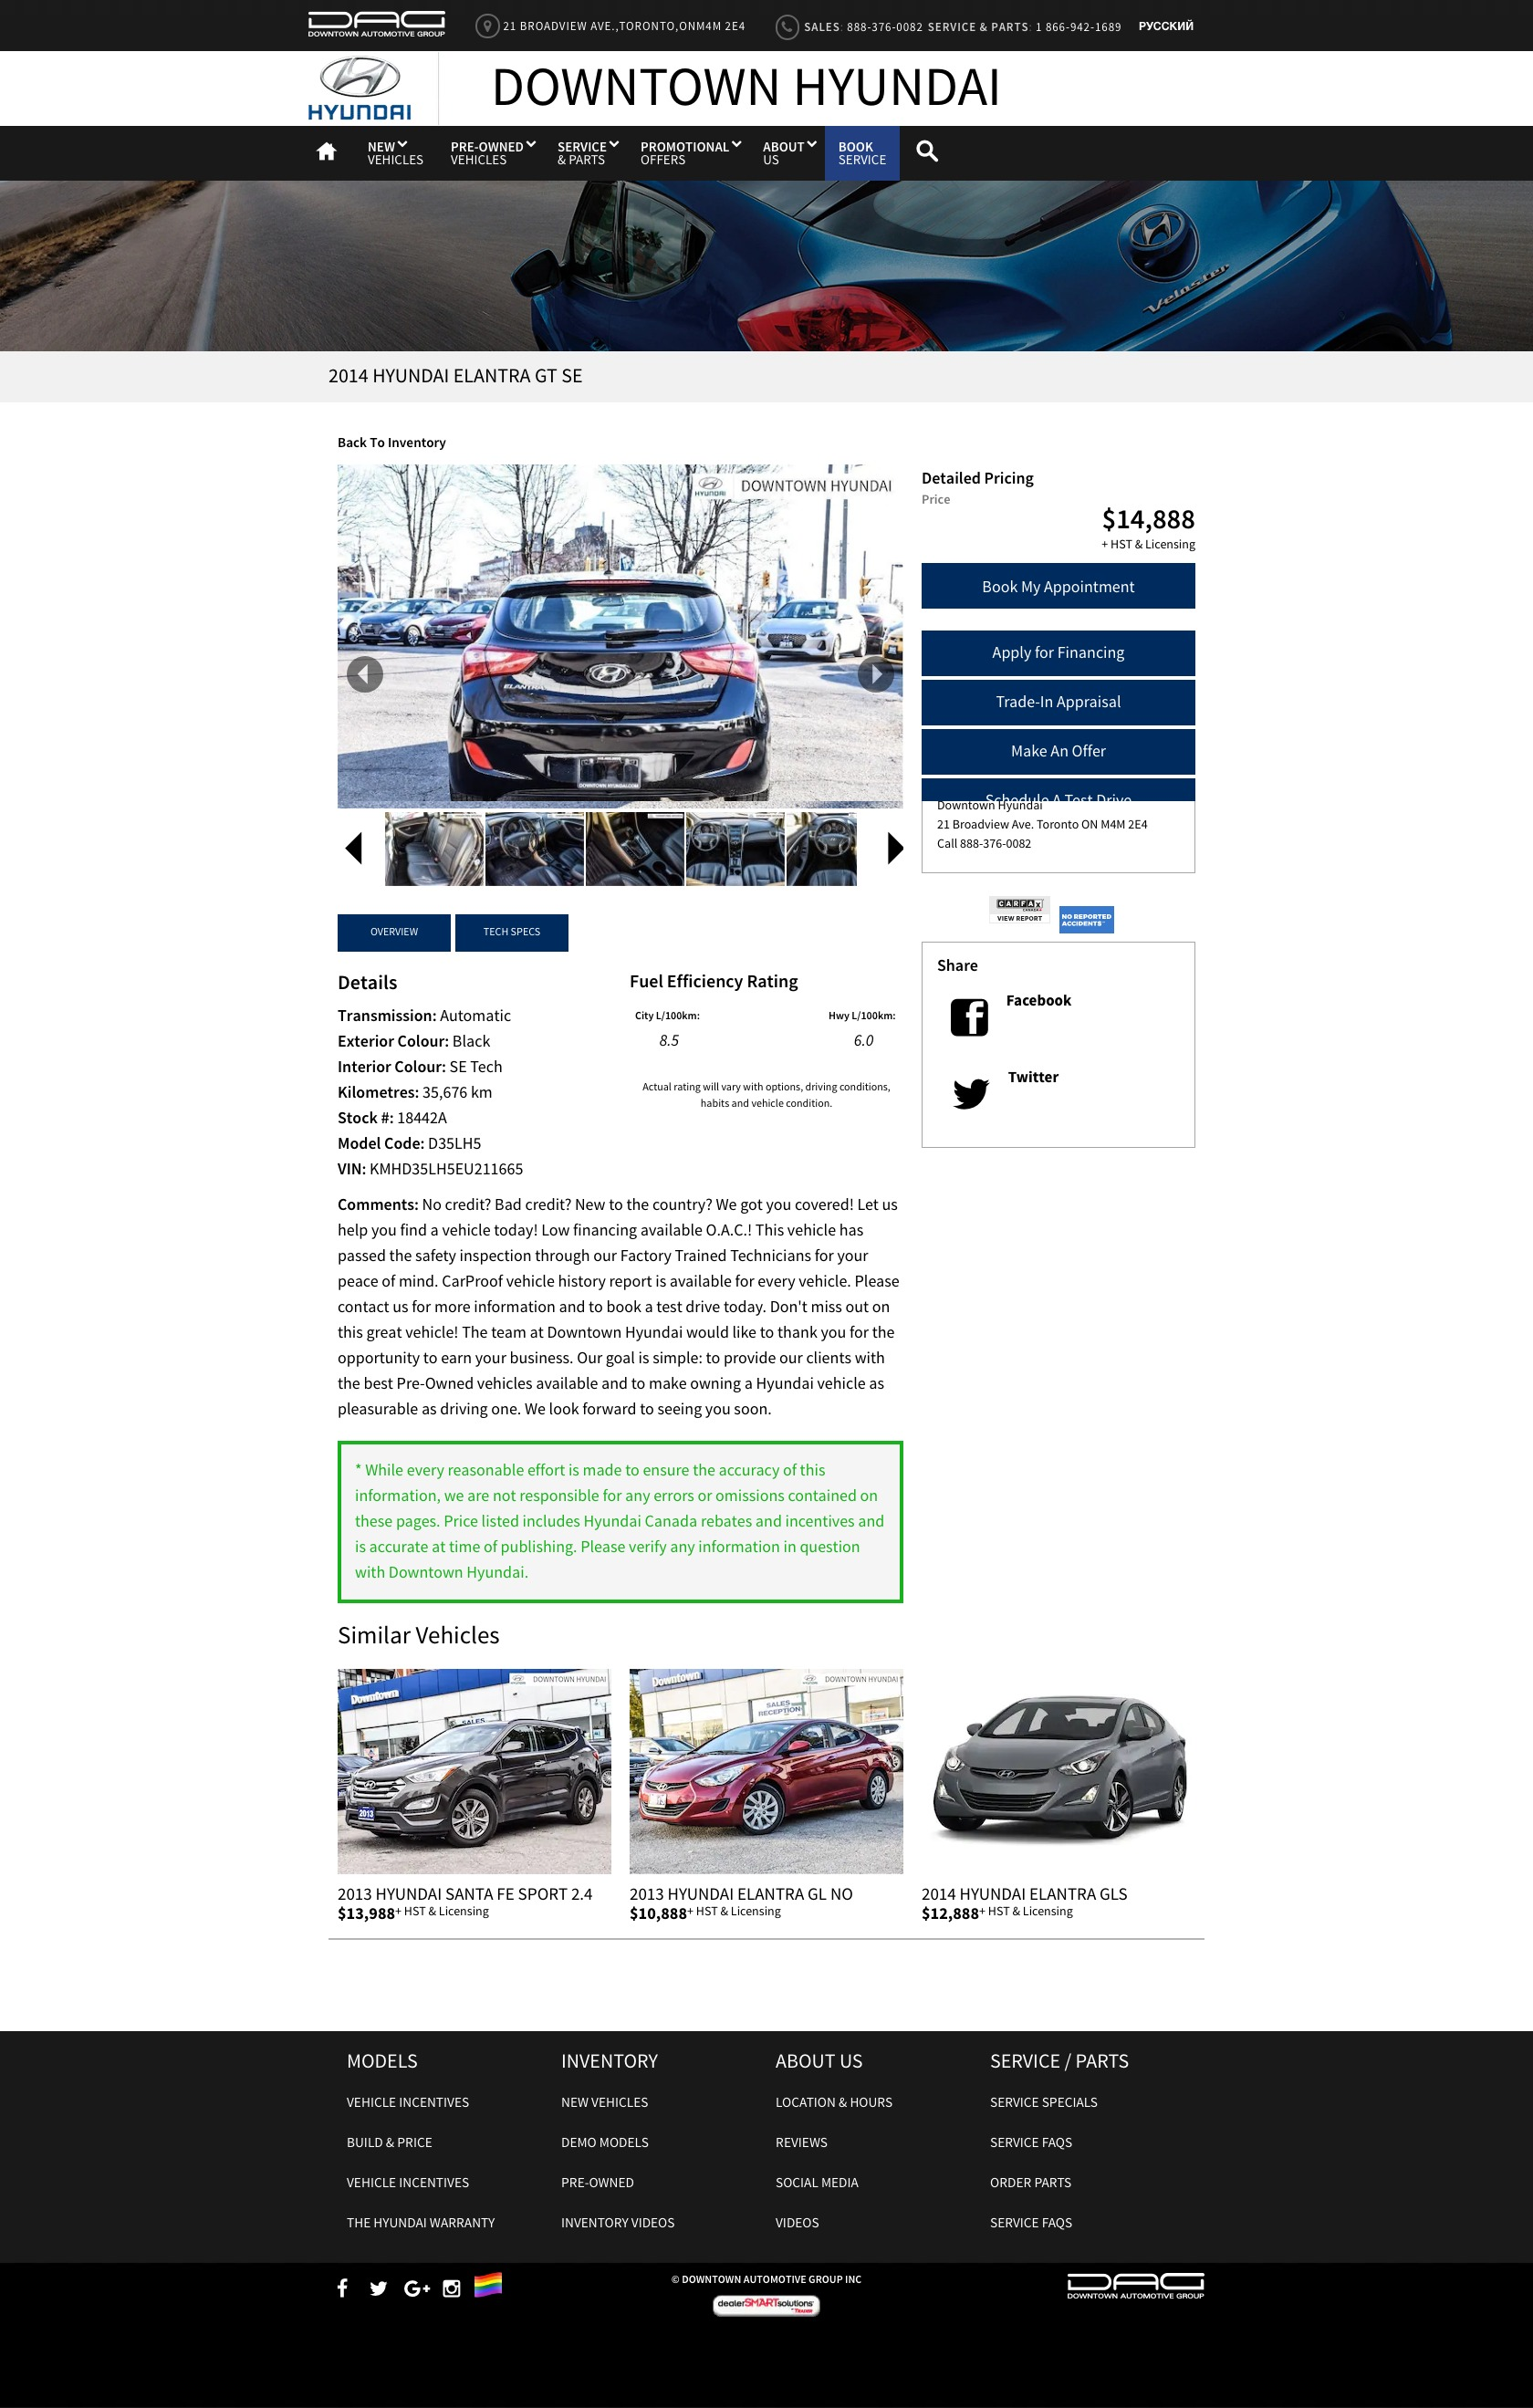car: (887, 832, 906, 865)
